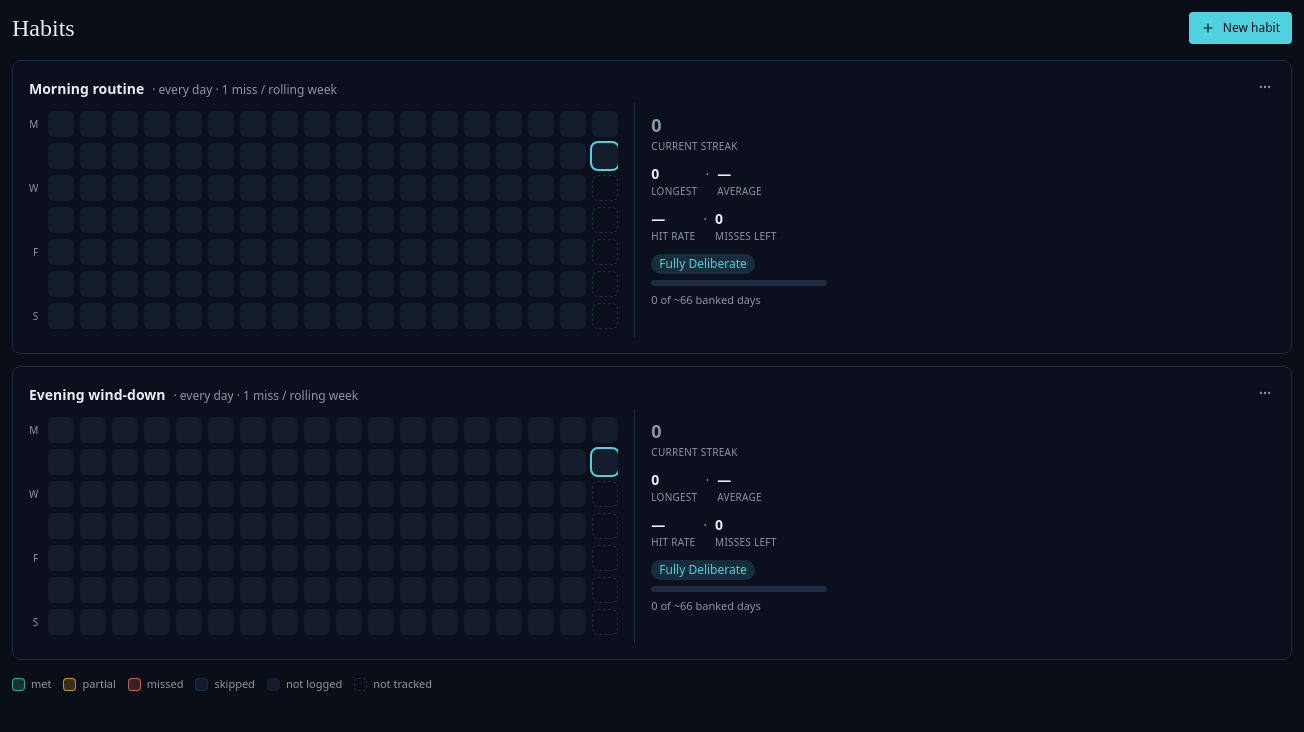
HabitsView — the card menu › names the menu for its own habit, so each card’s is addressable
The width and height of the screenshot is (1304, 732).
Click the button named "Options for Morning routine" at (1265, 87), box [1255,77,1275,97]
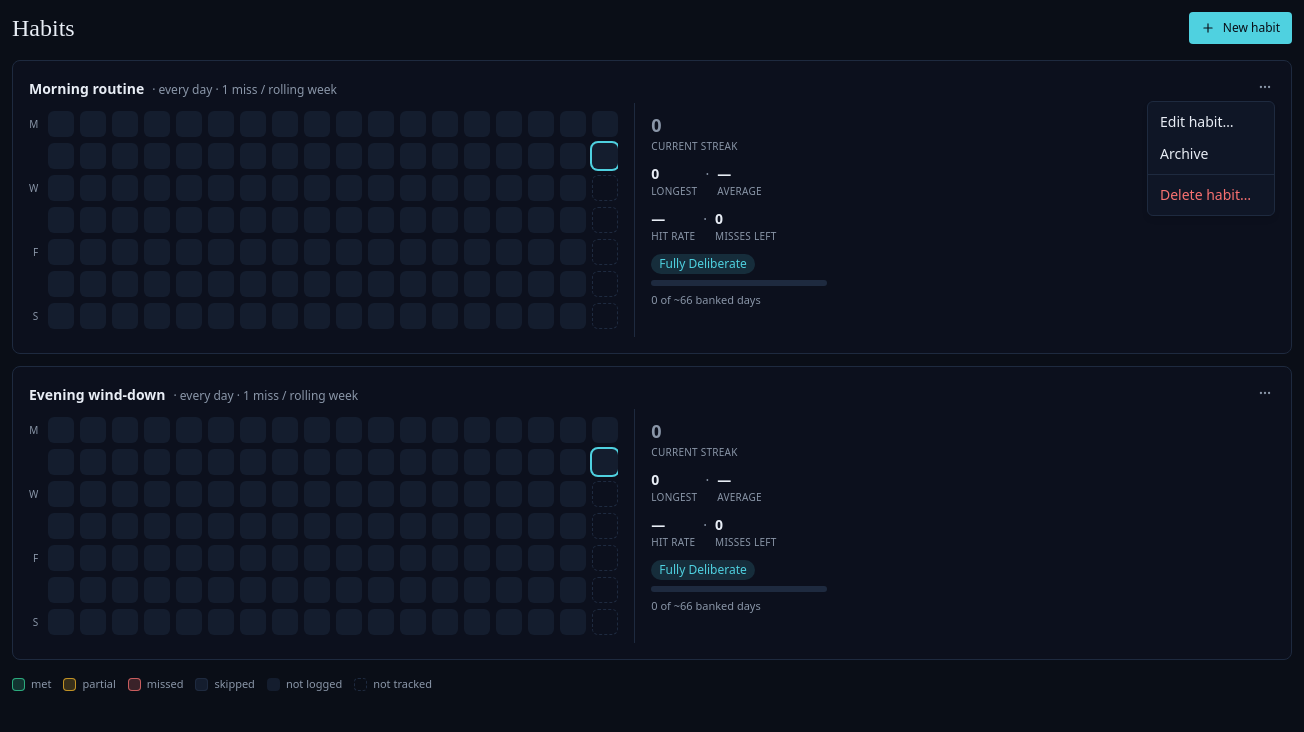
Result: the menu item "Edit habit…" is shown at [1160,112,1234,131]
Result: the menu item "Archive" is shown at [1160,144,1208,163]
Result: the menu item "Delete habit…" is shown at [1160,185,1251,204]
